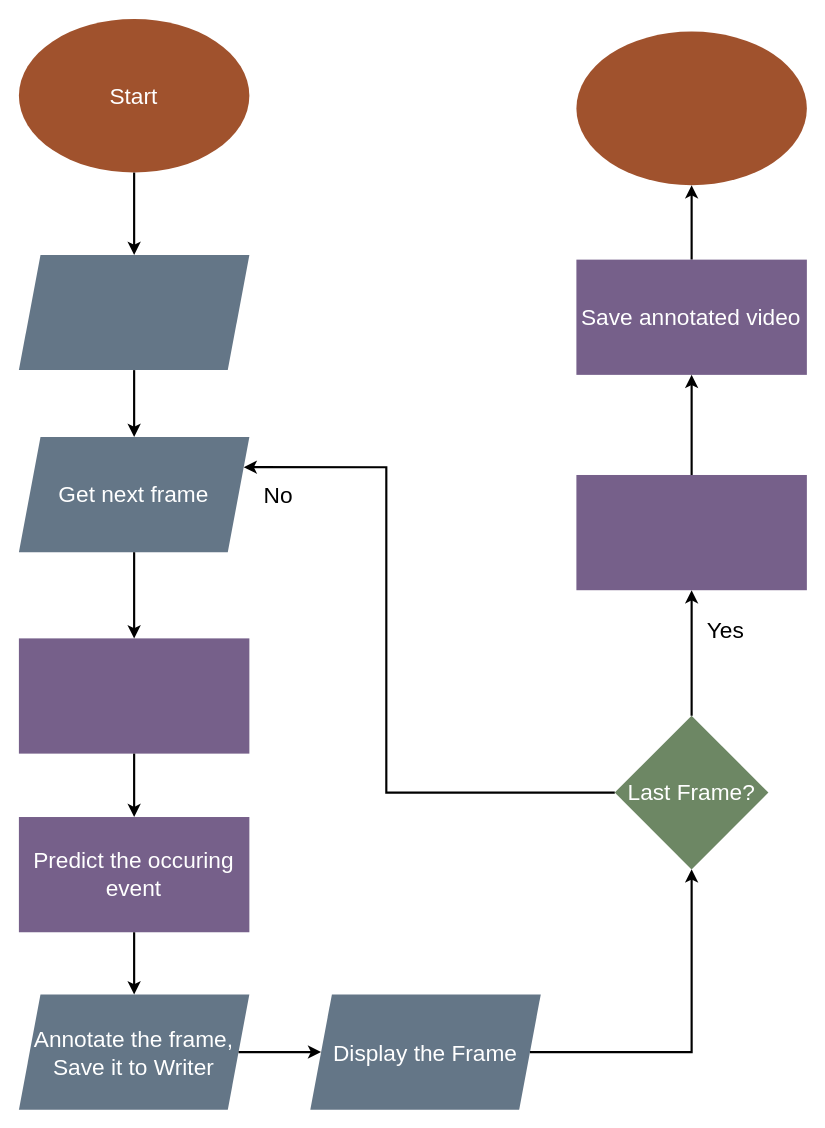
Some shapes in this 825 by 1128 pixel diagram are drawn without their labels. The shapes that lost their labels are listed below. From the top down, each one's centre as x and y in pixels, then its label:
At point 691,108: "End".
At point 133,312: "Init VideoCapture, Writer, Models, Pose".
At point 691,532: "Generate data visualisations".
At point 133,695: "Run Pose Estimator and format the features".
